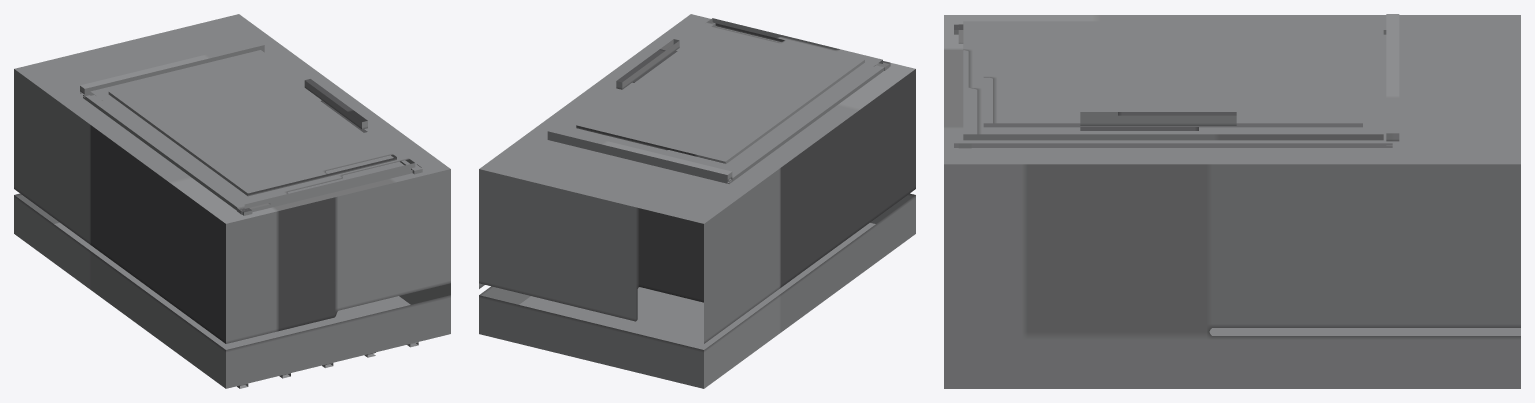
3 renders of one model, left to right at view 1: azimuth 30°, elevation 25°; view 2: azimuth 150°, elevation 25°; view 3: azimuth 270°, elevation 25°, orthographic. The views are drawn at different scales.
Bounding box in the file's own units: 0.9504 × 0.7935 × 1.55.
